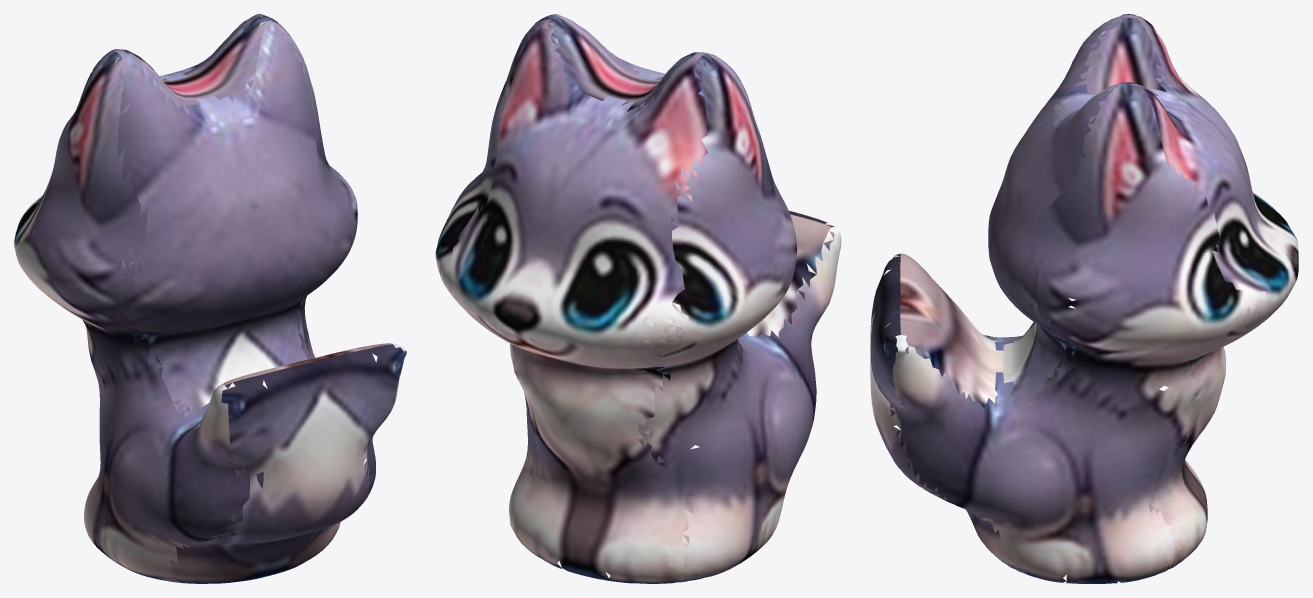
The model's file is Loup.glb.
The picture shows the model from 3 angles, left to right: view 1: azimuth 30°, elevation 25°; view 2: azimuth 150°, elevation 25°; view 3: azimuth 270°, elevation 25°; orthographic projection. The views are drawn at different scales.
Visible parts, largest first — view 1: Loup; view 2: Loup; view 3: Loup.
Boxes of the visible parts, box(x1,y1,x2,y2) form: Loup: box(14, 14, 406, 583); Loup: box(435, 14, 841, 583); Loup: box(870, 14, 1298, 583).
Size of the model in its own units: 2.56 by 4.08 by 3.23.
1 material, 1 textured.
